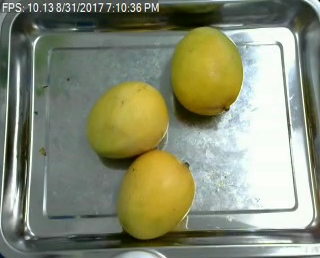Mango: (163, 19, 245, 117), (109, 152, 198, 239), (89, 80, 171, 153)
